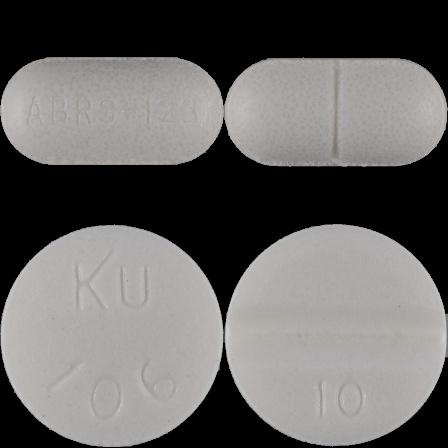62037-999: (0, 0, 224, 224)
